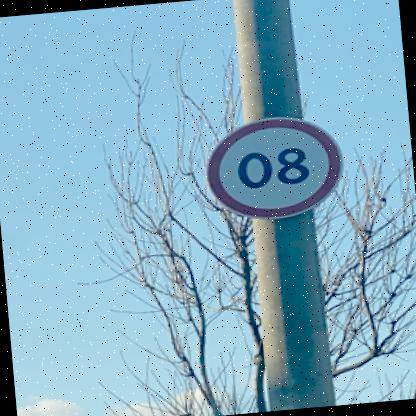speedlimit: (204, 112, 351, 224)
